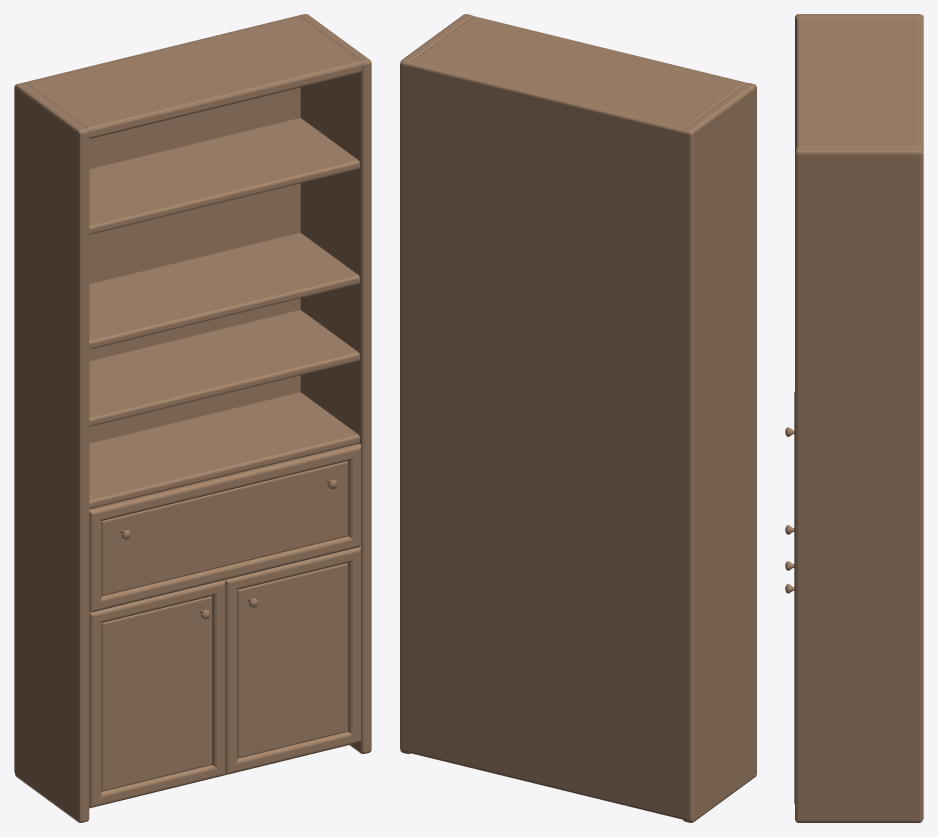
Rendered from wardrobe.FBX.
3 renders of one model, left to right at view 1: azimuth 30°, elevation 25°; view 2: azimuth 150°, elevation 25°; view 3: azimuth 270°, elevation 25°, orthographic. The views are drawn at different scales.
Parts seen in each view (by area): view 1: wardrobe-011; view 2: wardrobe-011; view 3: wardrobe-011.
Part boxes in pixels (box(x1,y1,x2,y2)): wardrobe-011: box(14, 14, 371, 822); wardrobe-011: box(400, 14, 756, 822); wardrobe-011: box(785, 14, 923, 822).
Bounding box in the file's own units: 24.16 × 10.19 × 54.54.
